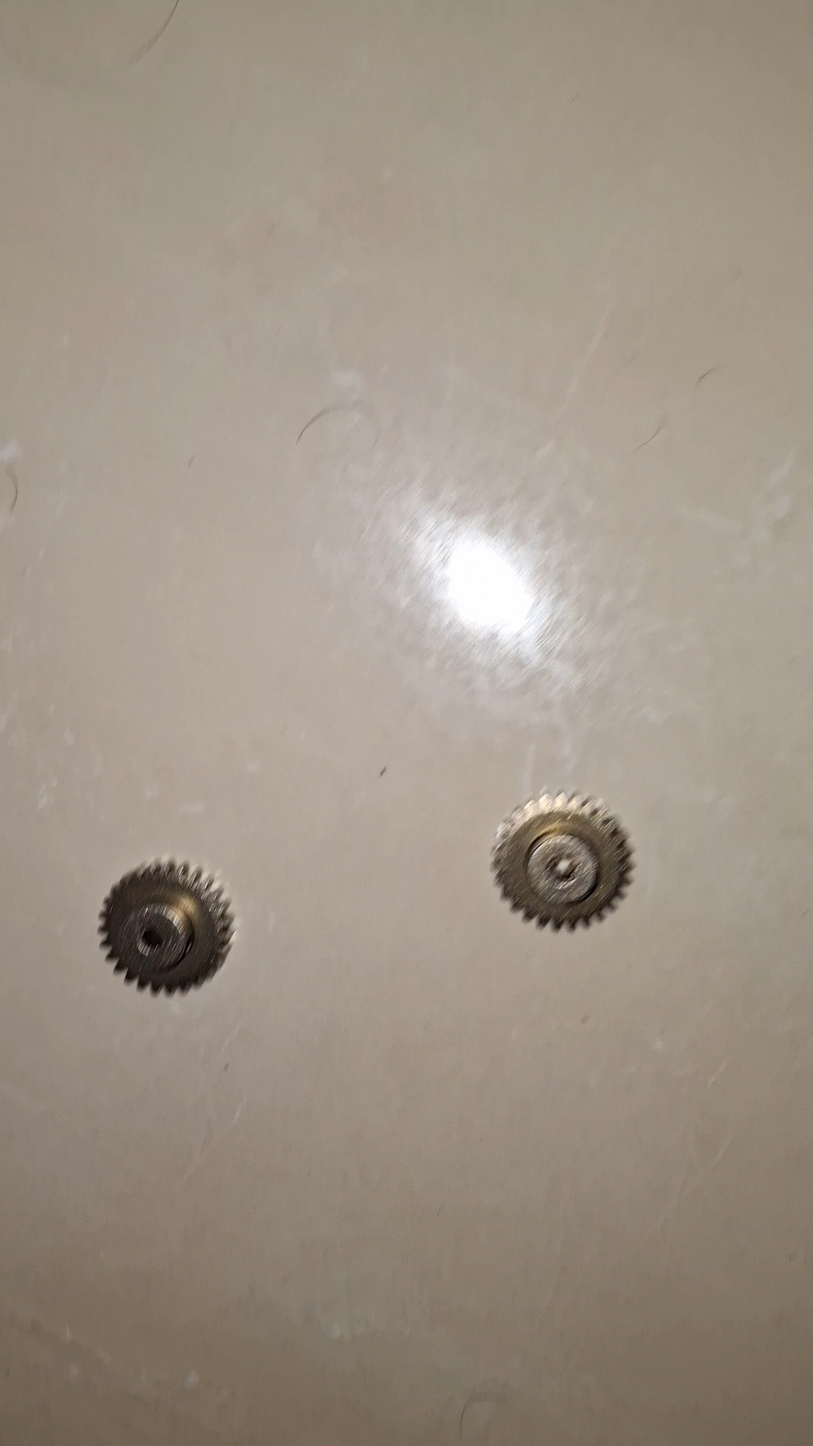spur gear: (520, 790, 661, 929), (117, 860, 253, 997)
